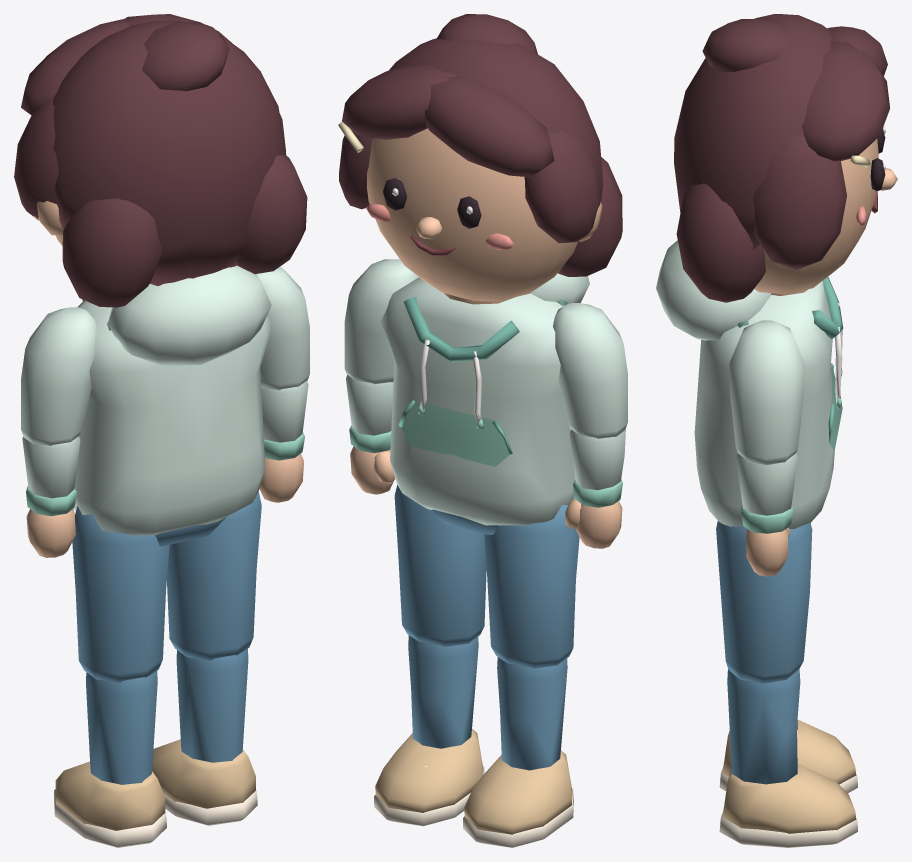
Rendered from owner_youth.glb.
The picture shows the model from 3 angles, left to right: view 1: azimuth 30°, elevation 25°; view 2: azimuth 150°, elevation 25°; view 3: azimuth 270°, elevation 25°; orthographic projection.
Visible parts, largest first — view 1: Hair, Body, Knee_L, Leg_L, Knee_R, Leg_R, Arm_L, Forearm_L, Arm_R, Forearm_R, Head; view 2: Body, Hair, Head, Knee_L, Knee_R, Leg_L, Leg_R, Arm_L, Forearm_L, Arm_R, Forearm_R; view 3: Hair, Body, Knee_R, Leg_R, Arm_R, Head, Forearm_R, Knee_L.
Part boxes in pixels (x1,y1,x2,y2): Hair: [14, 14, 307, 307]; Body: [74, 265, 272, 546]; Knee_L: [54, 671, 166, 847]; Leg_L: [72, 506, 169, 682]; Knee_R: [152, 648, 257, 825]; Leg_R: [167, 491, 261, 660]; Arm_L: [21, 307, 97, 445]; Forearm_L: [22, 436, 80, 557]; Arm_R: [257, 267, 309, 390]; Forearm_R: [259, 381, 308, 502]; Head: [33, 201, 63, 245]; Body: [380, 273, 589, 534]; Hair: [339, 14, 622, 276]; Head: [366, 128, 602, 300]; Knee_L: [463, 657, 573, 847]; Knee_R: [374, 635, 484, 826]; Leg_L: [484, 496, 579, 668]; Leg_R: [394, 485, 486, 646]; Arm_L: [553, 303, 627, 438]; Forearm_L: [565, 429, 625, 548]; Arm_R: [344, 259, 418, 384]; Forearm_R: [346, 375, 395, 494]; Hair: [674, 14, 889, 302]; Body: [656, 240, 843, 529]; Knee_R: [719, 669, 857, 847]; Leg_R: [716, 521, 812, 683]; Arm_R: [729, 320, 804, 464]; Head: [754, 126, 897, 294]; Forearm_R: [736, 453, 797, 576]; Knee_L: [719, 720, 857, 793].
Size of the model in its own units: 0.5727 by 1.55 by 0.4299.
14 materials, 14 textured.
